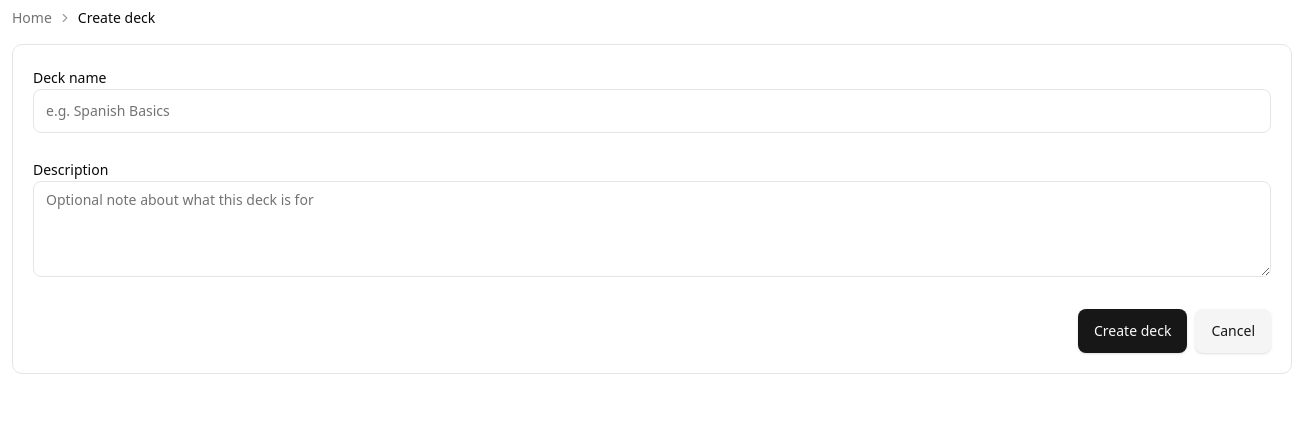
Test case: DeckForm dirty-form behavior › shows an inline error when creation fails
The image size is (1292, 435).
In the field labelled "Deck name": (652, 111) [33, 89, 1271, 133], type "My Deck"
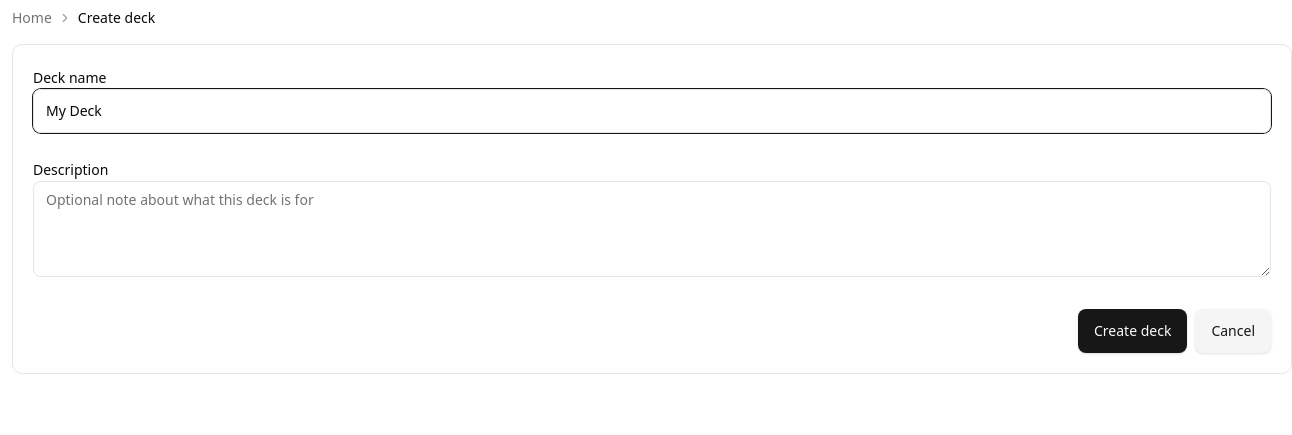
Click the button "Create deck": (1133, 331) [1078, 309, 1187, 353]
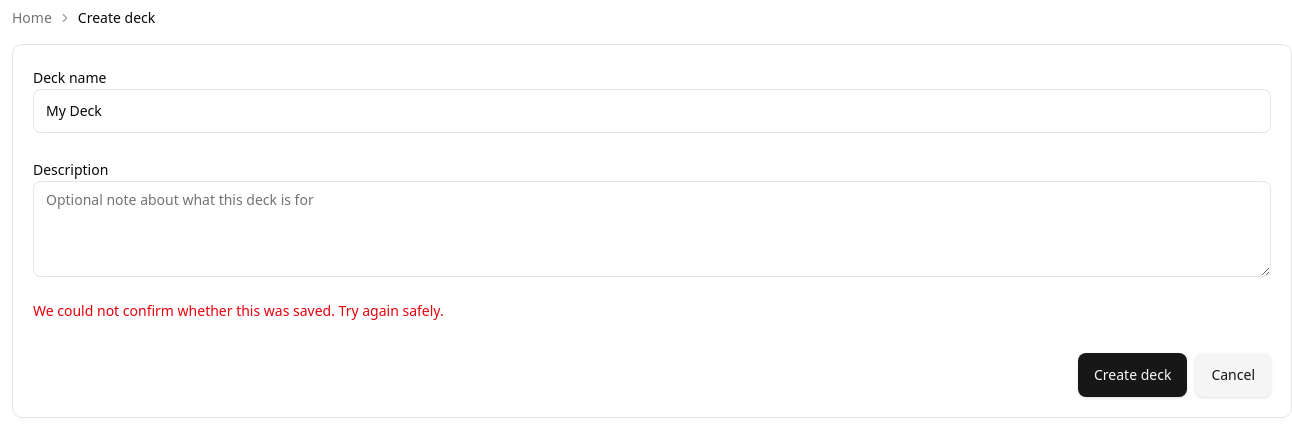
Result: the message reads "We could not confirm whether this was saved. Try again safely." at [33, 301, 444, 320]
